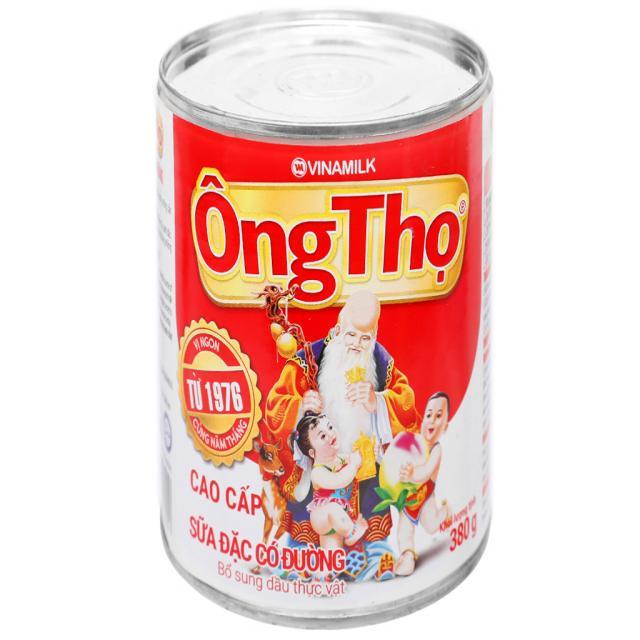kimloai: (159, 10, 491, 628)
